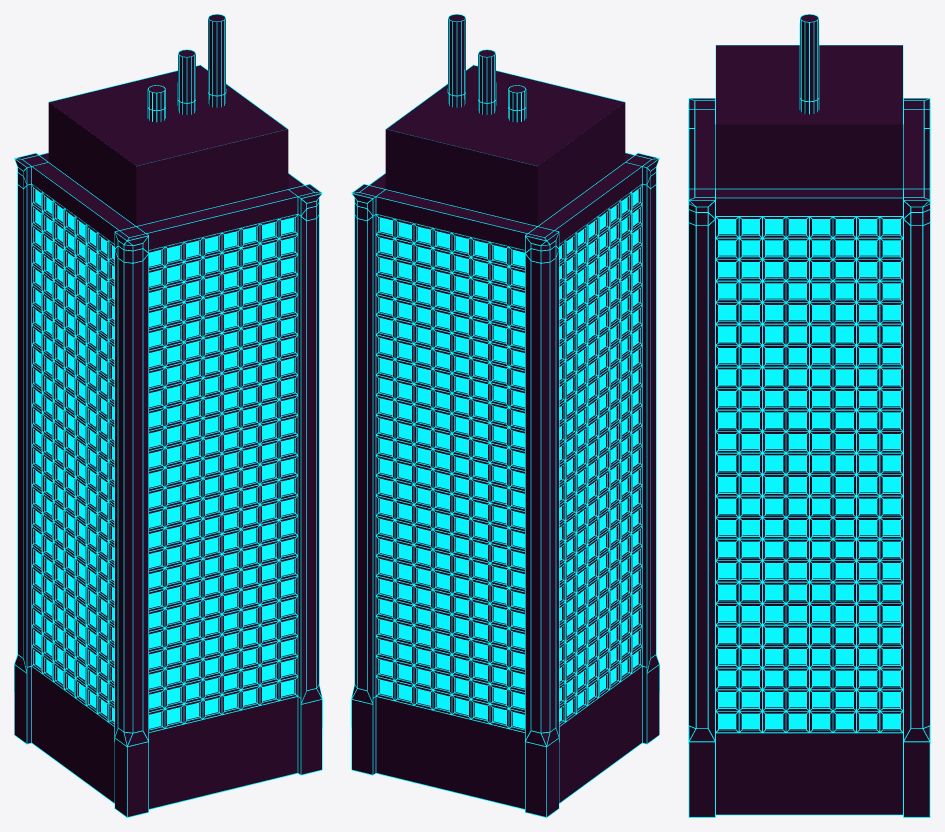
The model's file is Skyscraper1.fbx.
3 renders of one model, left to right at view 1: azimuth 30°, elevation 25°; view 2: azimuth 150°, elevation 25°; view 3: azimuth 270°, elevation 25°, orthographic. The views are drawn at different scales.
Parts seen in each view (by area): view 1: Plane, Plane.003, Cylinder, Cylinder.002; view 2: Plane, Plane.003, Cylinder, Cylinder.002; view 3: Plane, Plane.003, Cylinder, Cylinder.002.
Boxes of the visible parts, <box> form: Plane: <box>14,65,321,816</box>; Plane.003: <box>14,65,322,817</box>; Cylinder: <box>148,14,225,122</box>; Cylinder.002: <box>147,14,226,122</box>; Plane: <box>352,65,659,816</box>; Plane.003: <box>351,65,659,817</box>; Cylinder: <box>448,14,525,122</box>; Cylinder.002: <box>447,14,526,122</box>; Plane: <box>689,45,929,816</box>; Plane.003: <box>688,45,930,817</box>; Cylinder: <box>800,14,818,113</box>; Cylinder.002: <box>799,14,819,114</box>.
Size of the model in its own units: 2603 by 9277 by 2603.
